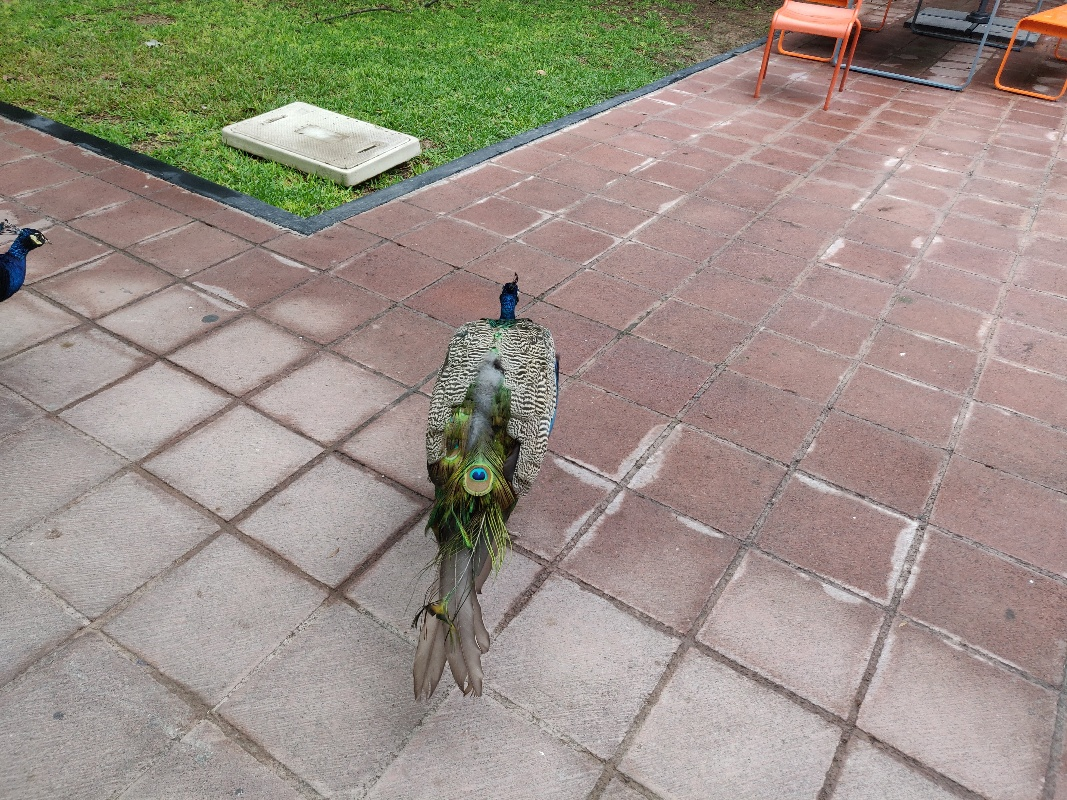pavoreal: (445, 273, 534, 500)
